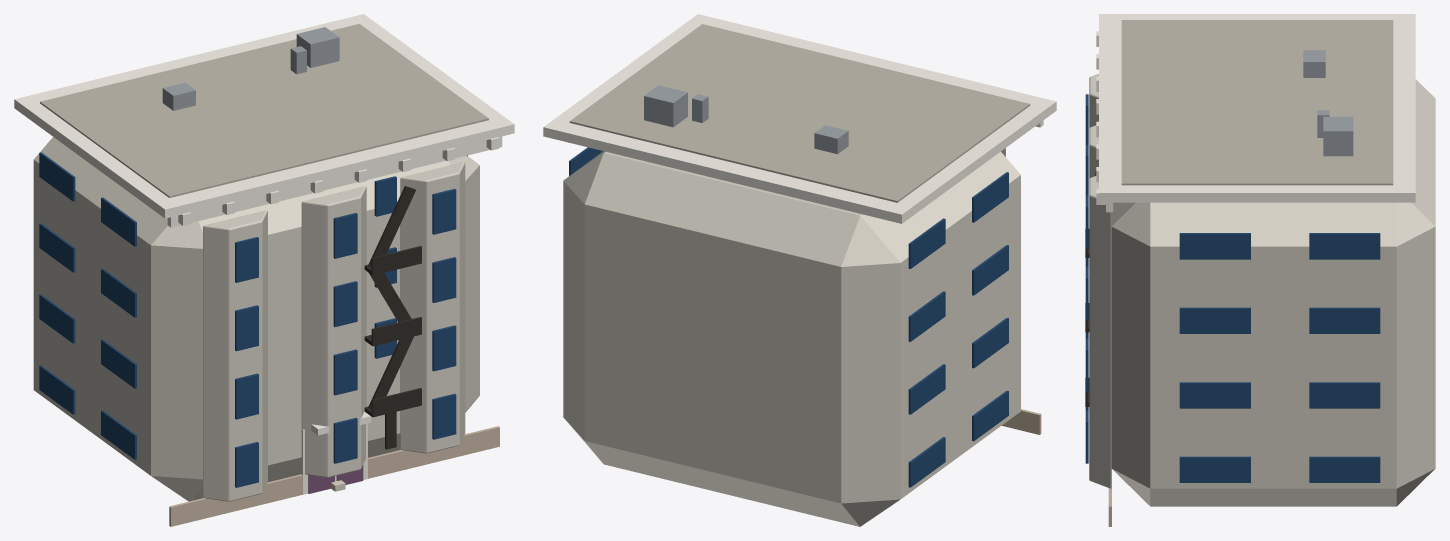
The model's file is aptfe_w16_f4.glb.
The picture shows the model from 3 angles, left to right: view 1: azimuth 30°, elevation 25°; view 2: azimuth 150°, elevation 25°; view 3: azimuth 270°, elevation 25°; orthographic projection. The views are drawn at different scales.
Parts seen in each view (by area): view 1: walls, roofslab, corn, bay, bay.001, bay.002, bsmt, frieze, hvac2, bw.005, bw.009, bw.010 (+25 smaller); view 2: walls, roofslab, corn, hvac2, sb.002, sb.010, sb.006, sb.014, sb.004, sb.008, sb, sb.012 (+2 smaller); view 3: walls, roofslab, corn, bay.002, sb.005, sb.007, sb.013, sb.015, sb.001, sb.003, sb.009, sb.011 (+4 smaller).
Boxes of the visible parts, box(x1,y1,x2,y2) form: walls: box(33, 137, 479, 501); roofslab: box(40, 24, 488, 197); corn: box(14, 14, 514, 218); bay: box(203, 210, 267, 501); bay.001: box(301, 186, 366, 477); bay.002: box(400, 162, 465, 453); bsmt: box(169, 426, 499, 526); frieze: box(167, 136, 502, 227); hvac2: box(296, 27, 339, 67); bw.005: box(333, 349, 357, 395); bw.009: box(432, 325, 456, 371); bw.010: box(432, 257, 456, 302); walls: box(563, 151, 1020, 526); roofslab: box(569, 24, 1030, 202); corn: box(543, 14, 1056, 223); hvac2: box(644, 85, 687, 127); sb.002: box(908, 437, 945, 487); sb.010: box(908, 291, 945, 341); sb.006: box(908, 364, 945, 414); sb.014: box(908, 218, 945, 268); sb.004: box(972, 318, 1008, 368); sb.008: box(972, 245, 1008, 295); sb: box(972, 390, 1008, 441); sb.012: box(972, 172, 1008, 222); walls: box(1111, 79, 1435, 506); roofslab: box(1121, 20, 1393, 185); corn: box(1099, 14, 1415, 202); bay.002: box(1089, 176, 1111, 488); sb.005: box(1179, 382, 1250, 408); sb.007: box(1309, 382, 1380, 408); sb.013: box(1179, 233, 1250, 259); sb.015: box(1309, 233, 1380, 259); sb.001: box(1179, 456, 1250, 482); sb.003: box(1309, 456, 1380, 482); sb.009: box(1179, 307, 1250, 333); sb.011: box(1309, 307, 1380, 333).
Bounding box in the file's own units: 17 × 16.2 × 14.05.
